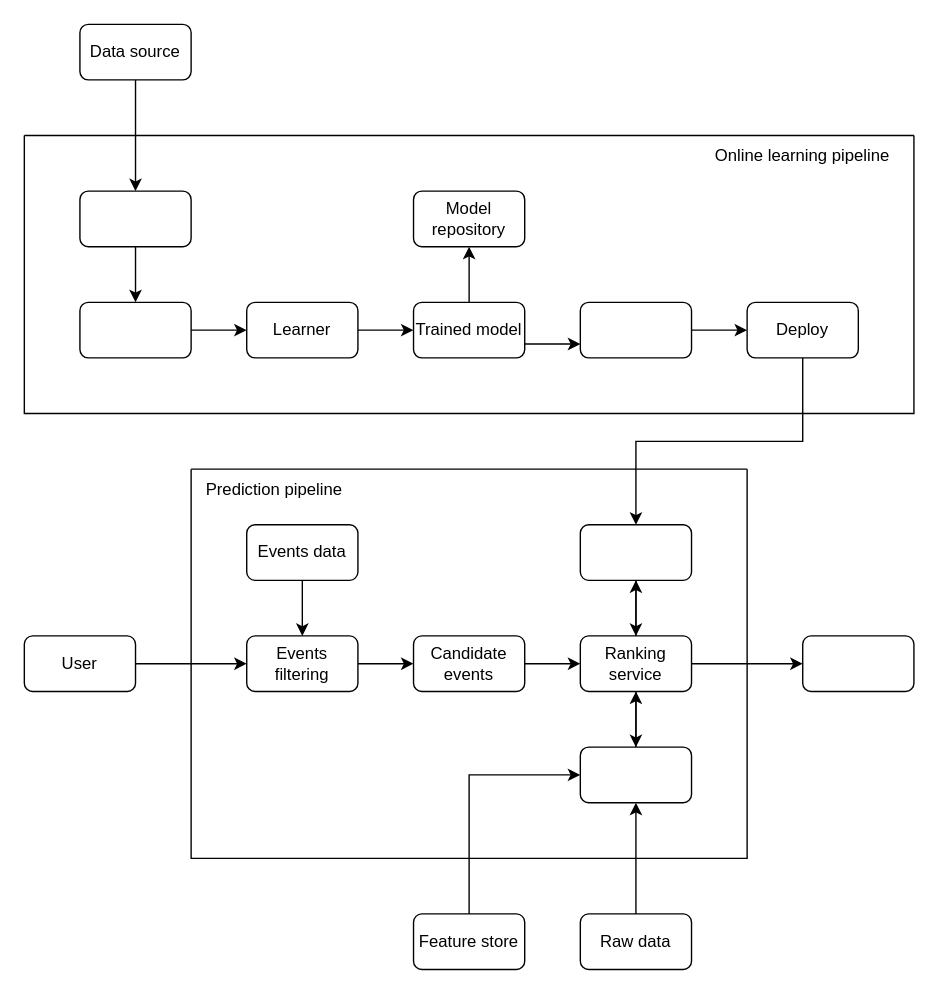
This 938x994 diagram has some shape labels left out. Each missing label, with the centre of its shape:
"Dataset construction" goes at pixel 135 218.
"Evaluator" goes at pixel 635 329.
"Feature computation" goes at pixel 635 774.
"Top k events" goes at pixel 857 663.
"Trained ML model" goes at pixel 635 551.
"Training dataset" goes at pixel 135 329.
